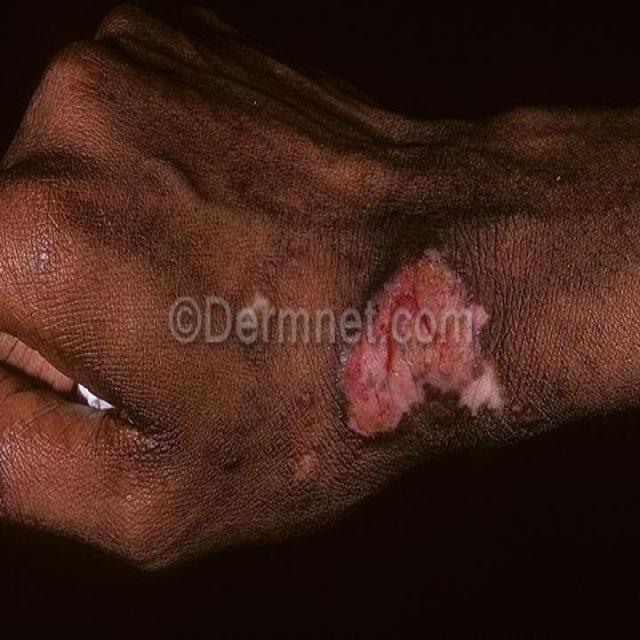Eczema: (340, 230, 504, 439)
